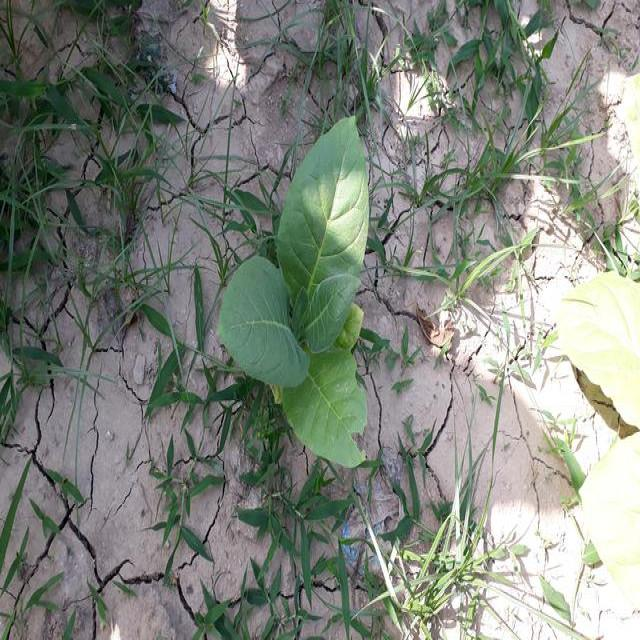crop: (212, 104, 380, 482)
